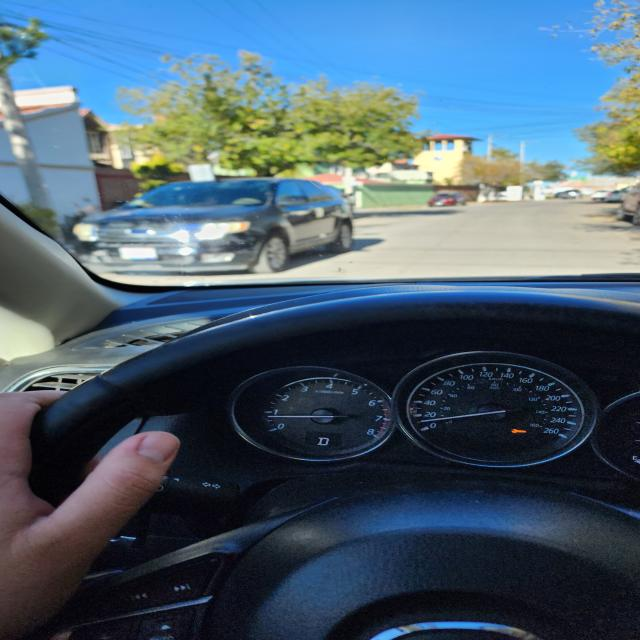Auto: (76, 178, 358, 277), (620, 186, 640, 225), (427, 192, 467, 208), (553, 190, 580, 200)
